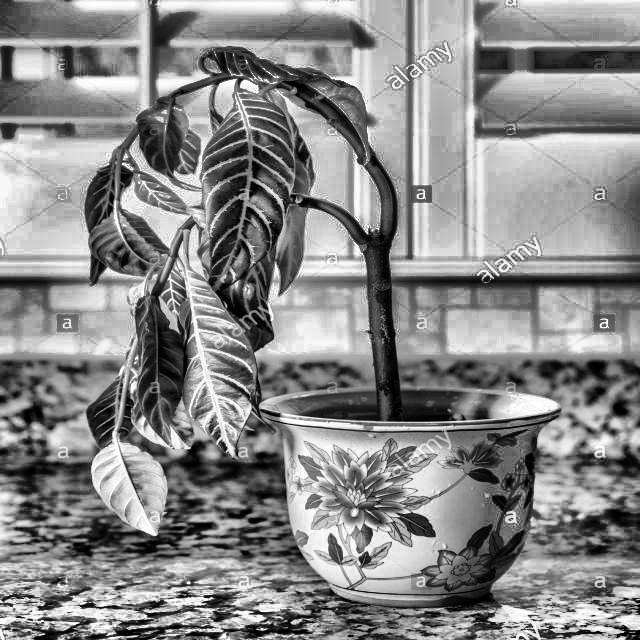plants: (78, 36, 536, 600)
